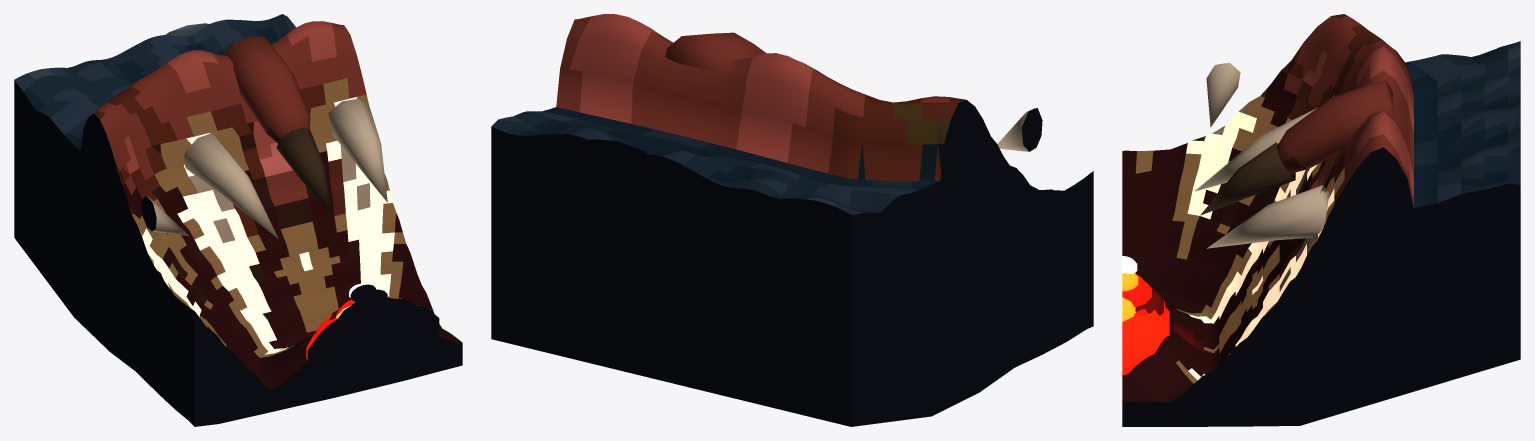
File: newshn-119.glb
3 renders of one model, left to right at view 1: azimuth 30°, elevation 25°; view 2: azimuth 150°, elevation 25°; view 3: azimuth 270°, elevation 25°, orthographic. The views are drawn at different scales.
Parts seen in each view (by area): view 1: newshn-119, newshn-119-f119, newshn-119-f241, newshn-119-f233, newshn-119-f237, newshn-119-f229; view 2: newshn-119, newshn-119-f119; view 3: newshn-119, newshn-119-f119, newshn-119-f241, newshn-119-f233.
Boxes of the visible parts, <box> form: newshn-119: <box>14,14,462,426</box>; newshn-119-f119: <box>141,98,387,238</box>; newshn-119-f241: <box>142,201,439,382</box>; newshn-119-f233: <box>323,289,411,357</box>; newshn-119-f237: <box>313,291,419,365</box>; newshn-119-f229: <box>340,305,394,337</box>; newshn-119: <box>491,14,1093,426</box>; newshn-119-f119: <box>997,108,1042,151</box>; newshn-119: <box>1122,14,1520,426</box>; newshn-119-f119: <box>1194,62,1329,248</box>; newshn-119-f241: <box>1122,165,1328,375</box>; newshn-119-f233: <box>1122,273,1163,315</box>.
Size of the model in its own units: 2 by 1.9 by 2.33.
